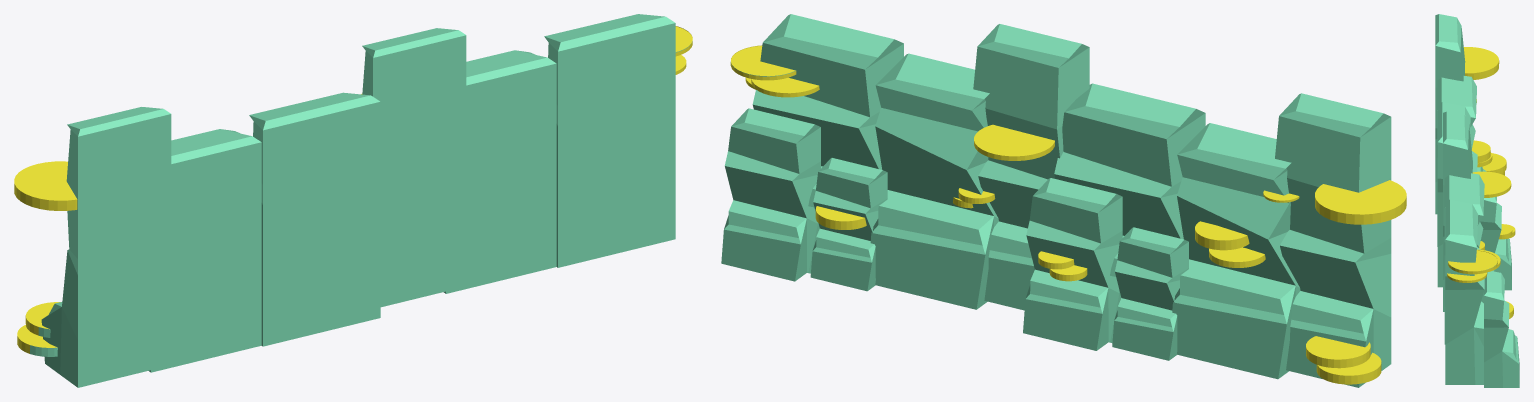
File: cliff2_green.glb
3 renders of one model, left to right at view 1: azimuth 30°, elevation 25°; view 2: azimuth 150°, elevation 25°; view 3: azimuth 270°, elevation 25°, orthographic. The views are drawn at different scales.
Visible parts, largest first — view 1: Cube; view 2: Cube; view 3: Cube.
Part boxes in pixels (x1=…): Cube: x1=14, y1=14, x2=692, y2=387; Cube: x1=721, y1=14, x2=1406, y2=387; Cube: x1=1435, y1=14, x2=1519, y2=387.
Size of the model in its own units: 179 by 66.75 by 28.92.
